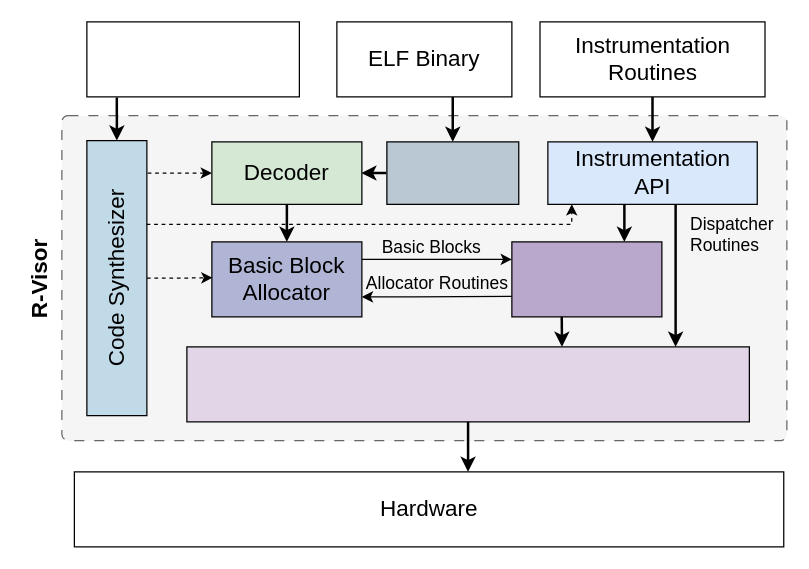
This 809x569 diagram has some shape labels left out. Here are the shapes that lost their labels. From the top down, the centre of each, then its label:
At point (192, 59): "ISA Specification".
At point (452, 172): "ELF Parser".
At point (586, 279): "Code Cache".
At point (467, 384): "Dispatcher".
